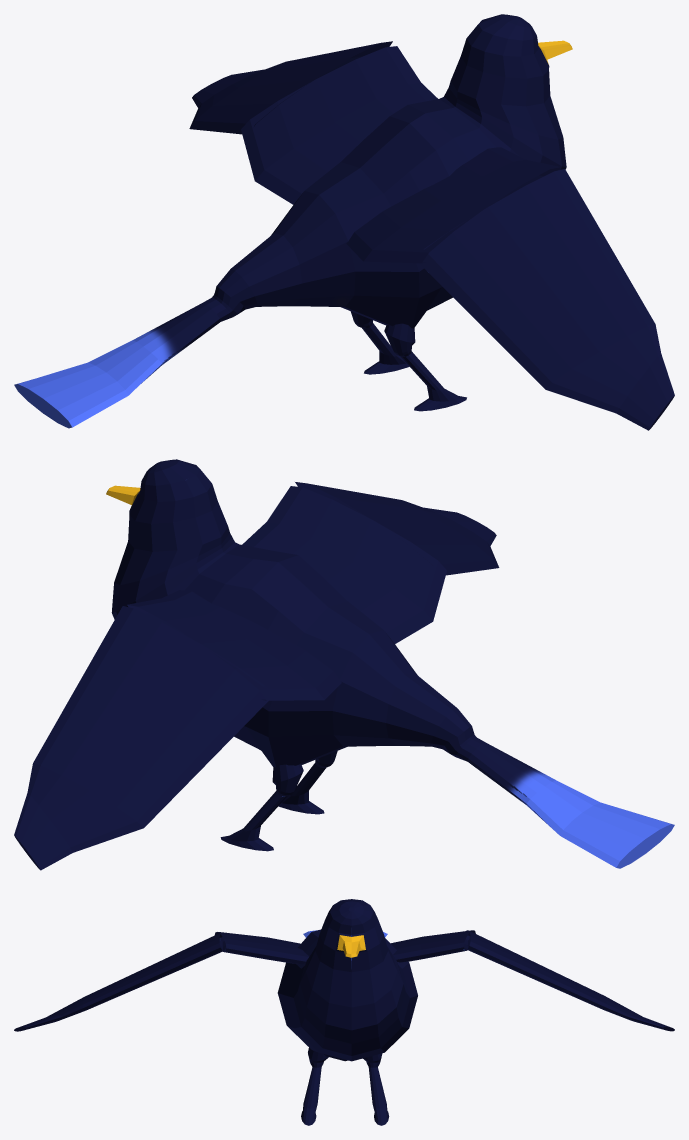
File: Bird.glb
The picture shows the model from 3 angles, top to bottom: view 1: azimuth 30°, elevation 25°; view 2: azimuth 150°, elevation 25°; view 3: azimuth 270°, elevation 25°; orthographic projection. The views are drawn at different scales.
Parts seen in each view (by area): view 1: Birb, LeftWingB, RightWingA, LeftWingA, RightWingB, Legs; view 2: Birb, RightWingB, LeftWingA, RightWingA, LeftWingB, Legs; view 3: Birb, RightWingB, LeftWingB, Legs, LeftWingA, RightWingA.
Part boxes in pixels (box(x1,y1,x2,y2)): Birb: box(14, 14, 572, 428); LeftWingB: box(419, 169, 674, 430); RightWingA: box(241, 46, 437, 204); LeftWingA: box(346, 147, 560, 263); RightWingB: box(189, 41, 392, 134); Legs: box(350, 311, 466, 411); Birb: box(106, 459, 674, 868); RightWingB: box(14, 606, 268, 870); LeftWingA: box(242, 486, 446, 643); RightWingA: box(127, 590, 341, 700); LeftWingB: box(295, 482, 499, 575); Legs: box(220, 751, 337, 851); Birb: box(277, 899, 417, 1061); RightWingB: box(464, 930, 674, 1031); LeftWingB: box(14, 933, 225, 1031); Legs: box(301, 1047, 389, 1125); LeftWingA: box(215, 932, 309, 964); RightWingA: box(391, 930, 475, 962).
Size of the model in its own units: 0.5245 by 0.321 by 0.7773.
Materials: 1 (1 with a texture image).
